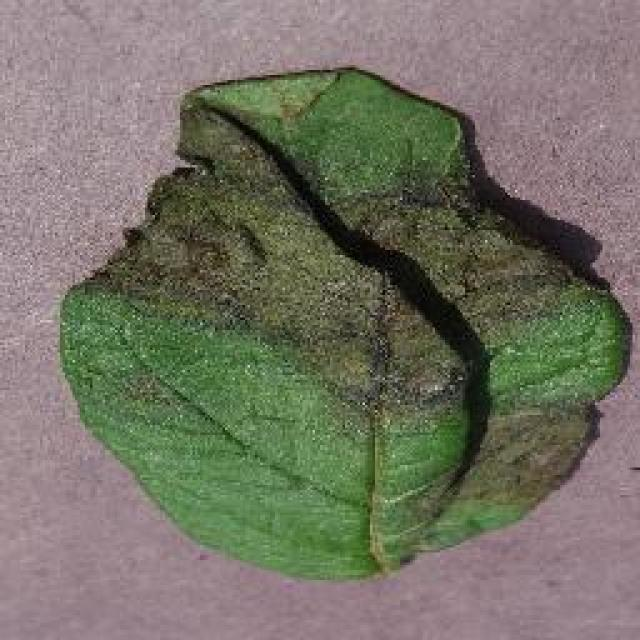late_blight: (53, 60, 635, 585)
